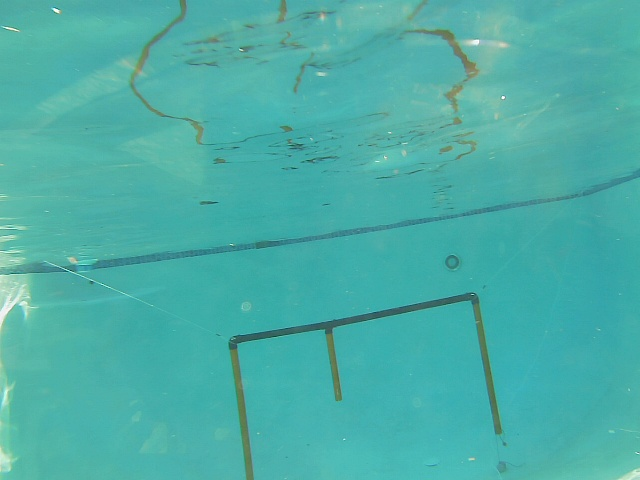Gate: (470, 298, 503, 434), (227, 342, 257, 480), (323, 327, 347, 398)
